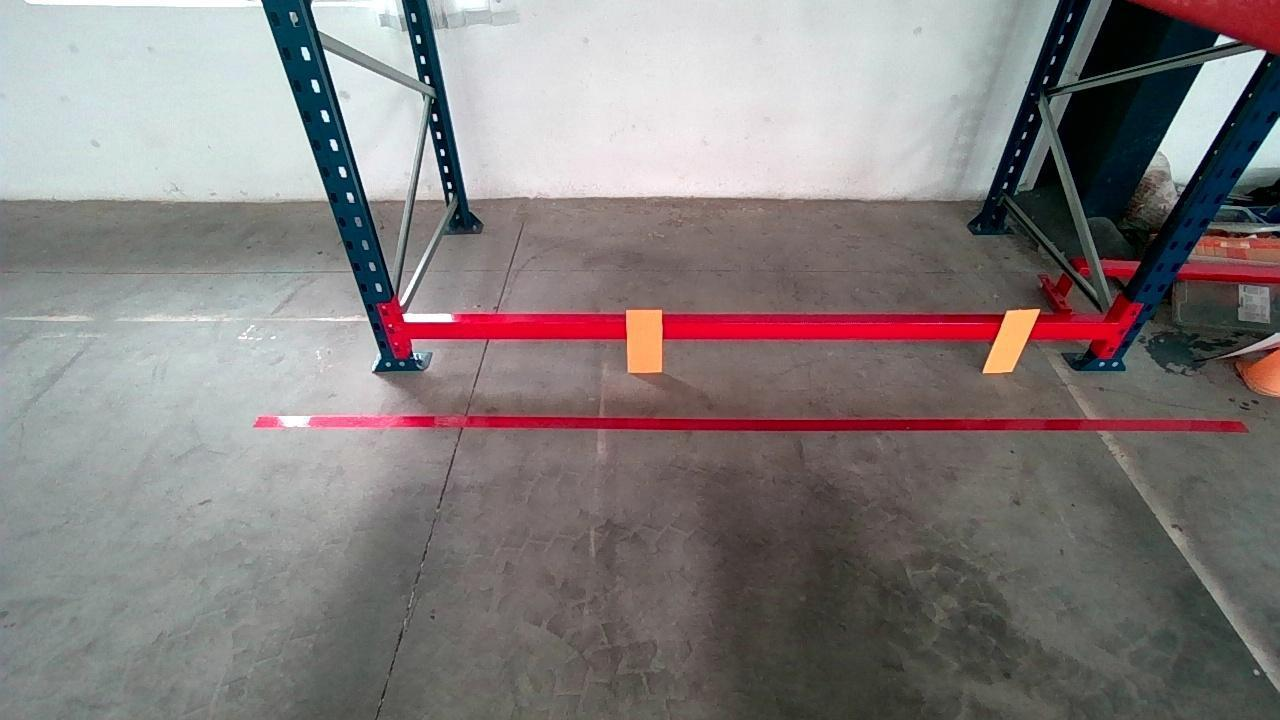h_rack: (411, 314, 1103, 350)
orange_strip: (984, 308, 1043, 372), (628, 308, 662, 371)
red_line: (272, 407, 1235, 439)
